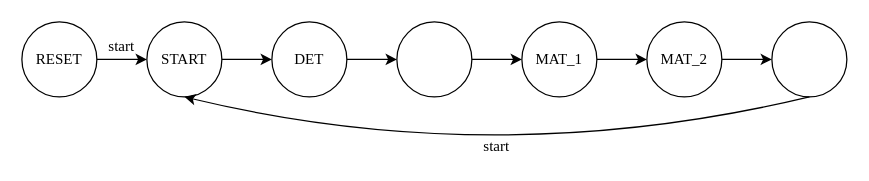
Some shapes in this 869 by 181 pixel diagram are drawn without their labels. Here are the shapes that lost their labels. From the top down, the centre of each, then its label:
the point at 434,59: TERM
the point at 809,59: READY
